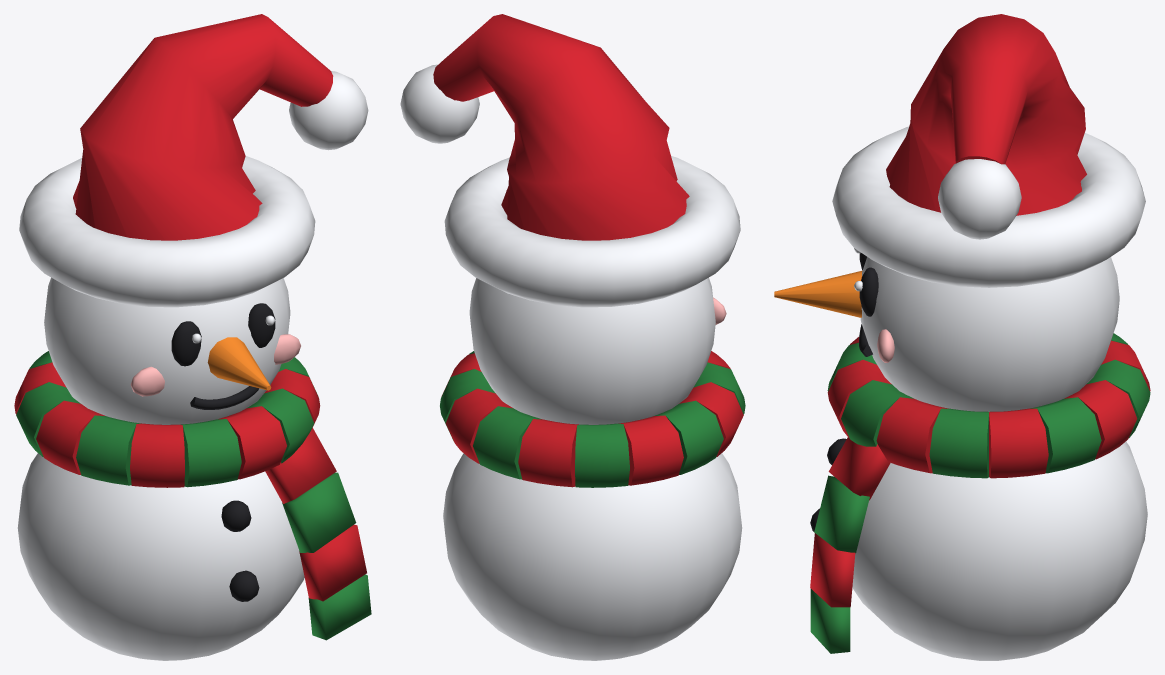
File: XmasBobber3.glb
The picture shows the model from 3 angles, left to right: view 1: azimuth 30°, elevation 25°; view 2: azimuth 150°, elevation 25°; view 3: azimuth 270°, elevation 25°; orthographic projection. The views are drawn at different scales.
Parts seen in each view (by area): view 1: XmasBobber3__Snow, XmasBobber3__Red, XmasBobber3__ScarfGreen, XmasBobber3__Scarf, XmasBobber3__Coal, XmasBobber3__Carrot, XmasBobber3__FurPink; view 2: XmasBobber3__Snow, XmasBobber3__Red, XmasBobber3__Scarf, XmasBobber3__ScarfGreen; view 3: XmasBobber3__Snow, XmasBobber3__Red, XmasBobber3__Scarf, XmasBobber3__ScarfGreen, XmasBobber3__Carrot, XmasBobber3__Coal.
Part boxes in pixels (box(x1,y1,x2,y2)): XmasBobber3__Snow: box(17, 71, 368, 660); XmasBobber3__Red: box(73, 14, 333, 240); XmasBobber3__ScarfGreen: box(16, 351, 371, 640); XmasBobber3__Scarf: box(14, 362, 366, 601); XmasBobber3__Coal: box(171, 303, 275, 601); XmasBobber3__Carrot: box(207, 337, 271, 390); XmasBobber3__FurPink: box(130, 334, 300, 396); XmasBobber3__Snow: box(400, 64, 742, 660); XmasBobber3__Red: box(433, 14, 689, 240); XmasBobber3__Scarf: box(441, 351, 743, 487); XmasBobber3__ScarfGreen: box(440, 351, 745, 487); XmasBobber3__Snow: box(832, 126, 1147, 660); XmasBobber3__Red: box(886, 14, 1086, 215); XmasBobber3__Scarf: box(810, 337, 1150, 607); XmasBobber3__ScarfGreen: box(810, 333, 1150, 653); XmasBobber3__Carrot: box(774, 270, 862, 317); XmasBobber3__Coal: box(810, 253, 878, 532).
Size of the model in its own units: 0.4229 by 0.7556 by 0.4029.
